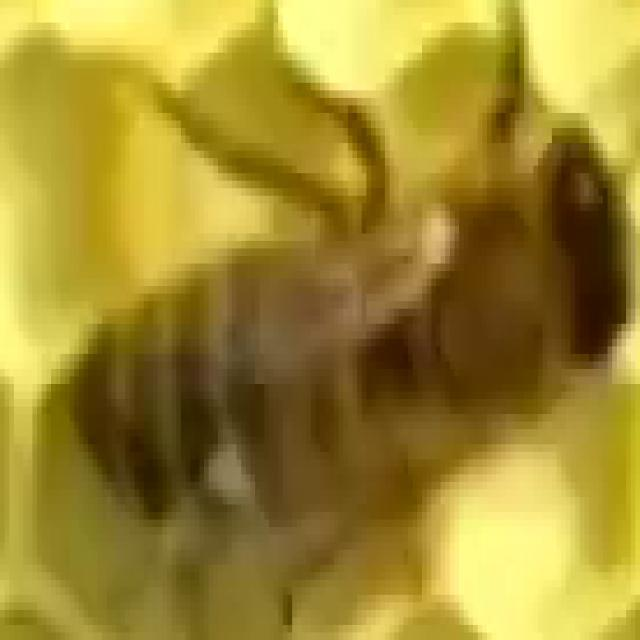honeybee: (37, 83, 640, 617)
